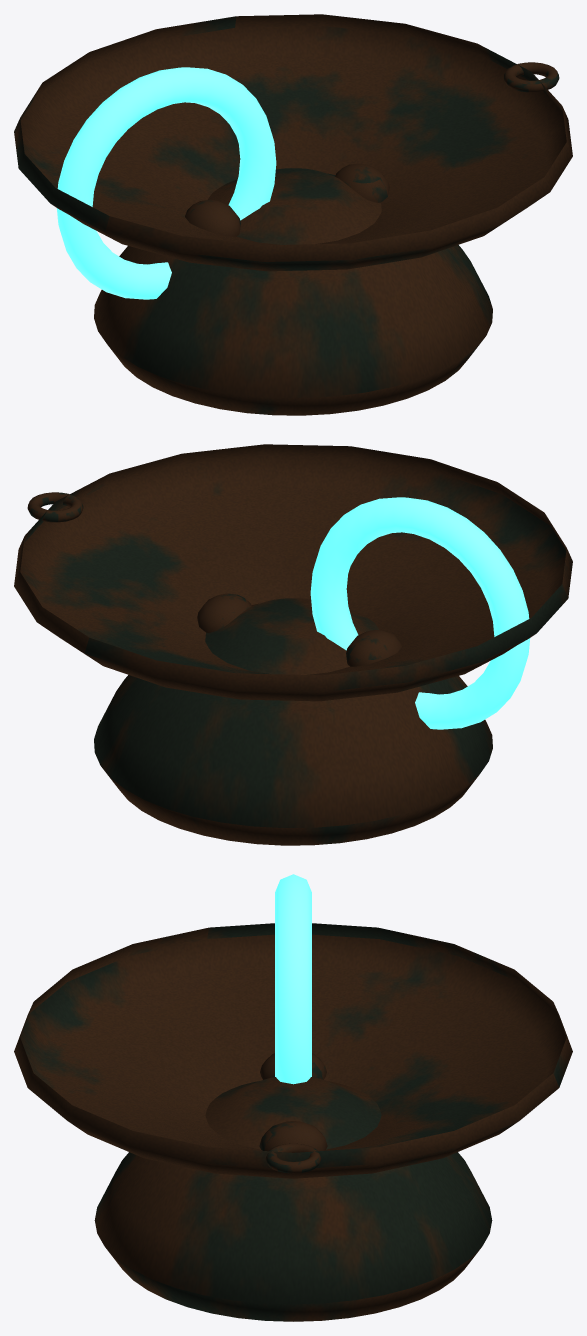
The model's file is ceremonial_lamp.fbx.
3 renders of one model, top to bottom at view 1: azimuth 30°, elevation 25°; view 2: azimuth 150°, elevation 25°; view 3: azimuth 270°, elevation 25°, orthographic.
Visible parts, largest first — view 1: TH10_Lamp_Spout, TH10_Lamp_Reservoir, TH10_Lamp_Handle, TH10_Lamp_HandleMount, TH10_Lamp_HandleMount.001, TH10_Lamp_SpoutRim; view 2: TH10_Lamp_Spout, TH10_Lamp_Reservoir, TH10_Lamp_Handle, TH10_Lamp_HandleMount, TH10_Lamp_HandleMount.001, TH10_Lamp_SpoutRim; view 3: TH10_Lamp_Spout, TH10_Lamp_Reservoir, TH10_Lamp_Handle, TH10_Lamp_HandleMount.001, TH10_Lamp_SpoutRim, TH10_Lamp_HandleMount.
Boxes of the visible parts, box(x1,y1,x2,y2) form: TH10_Lamp_Spout: box(14, 14, 572, 271); TH10_Lamp_Reservoir: box(94, 168, 492, 415); TH10_Lamp_Handle: box(56, 67, 276, 299); TH10_Lamp_HandleMount: box(185, 199, 240, 236); TH10_Lamp_HandleMount.001: box(335, 163, 389, 202); TH10_Lamp_SpoutRim: box(503, 62, 559, 92); TH10_Lamp_Spout: box(14, 444, 572, 701); TH10_Lamp_Reservoir: box(94, 598, 492, 845); TH10_Lamp_Handle: box(310, 497, 530, 729); TH10_Lamp_HandleMount: box(346, 629, 401, 666); TH10_Lamp_HandleMount.001: box(197, 593, 251, 632); TH10_Lamp_SpoutRim: box(27, 492, 83, 522); TH10_Lamp_Spout: box(14, 923, 572, 1178); TH10_Lamp_Reservoir: box(94, 1077, 492, 1321); TH10_Lamp_Handle: box(275, 874, 311, 1084); TH10_Lamp_HandleMount.001: box(259, 1121, 327, 1151); TH10_Lamp_SpoutRim: box(265, 1143, 321, 1173); TH10_Lamp_HandleMount: box(260, 1053, 326, 1079).
Size of the model in its own units: 0.187 by 0.106 by 0.18.
2 materials, 1 textured.
